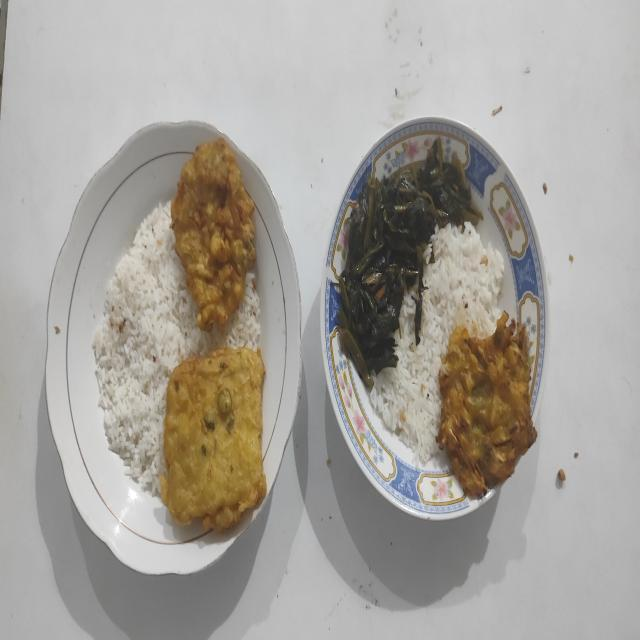nasi_putih: (92, 202, 260, 496), (371, 222, 504, 460)
tumis_kangkung: (336, 136, 482, 389)
